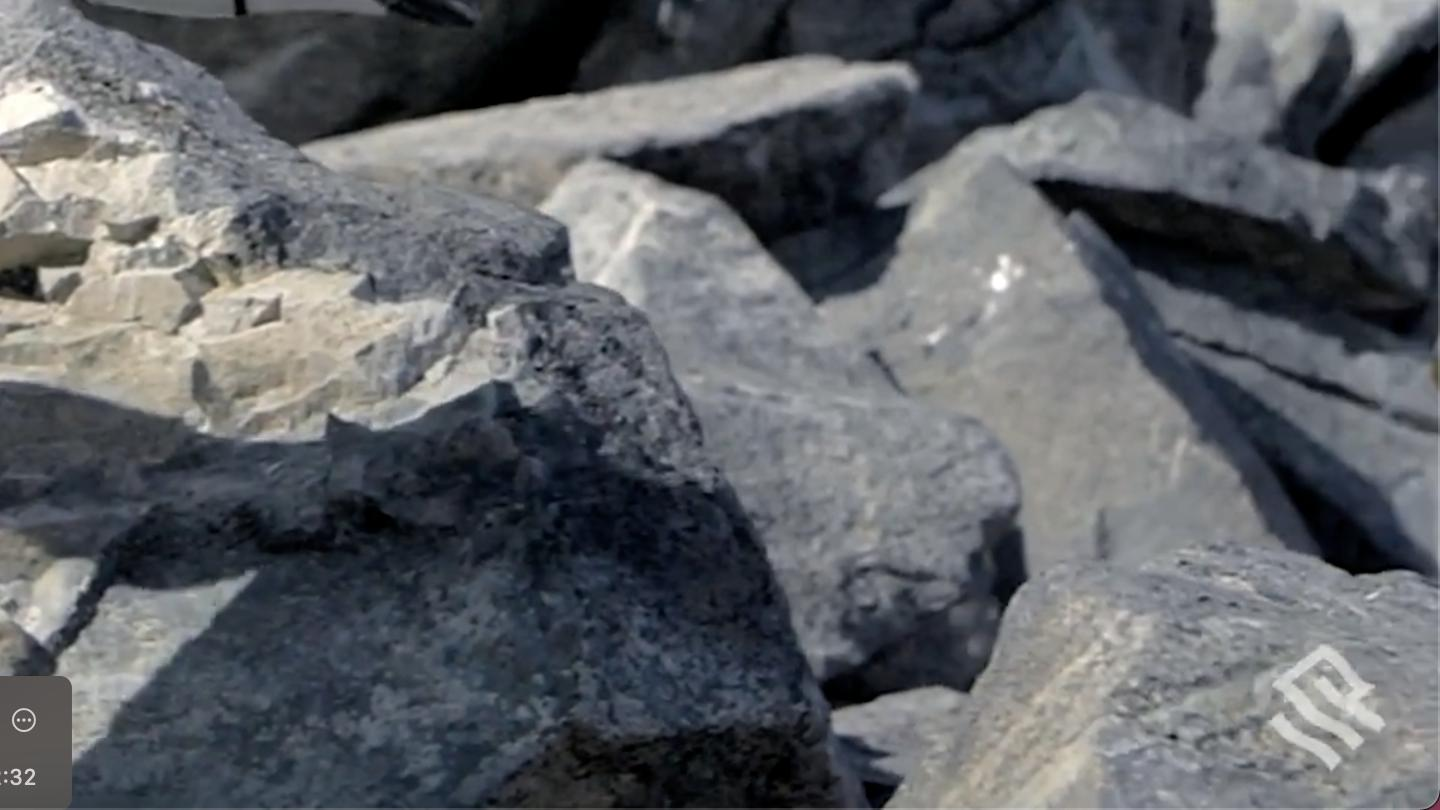Chinstrap Penguin: (0, 0, 521, 658)
